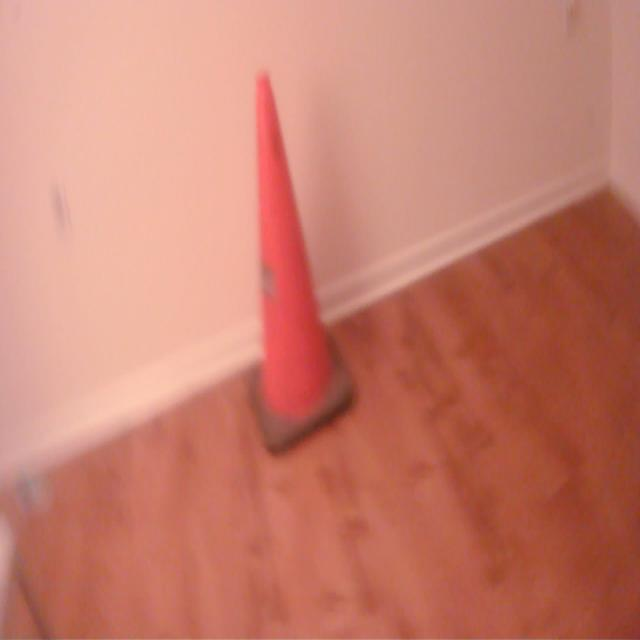traffic cone: (245, 64, 364, 467)
